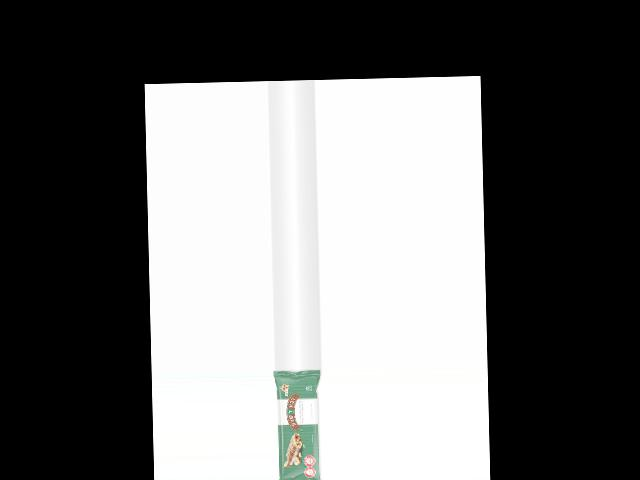chocolate: (273, 367, 325, 480)
